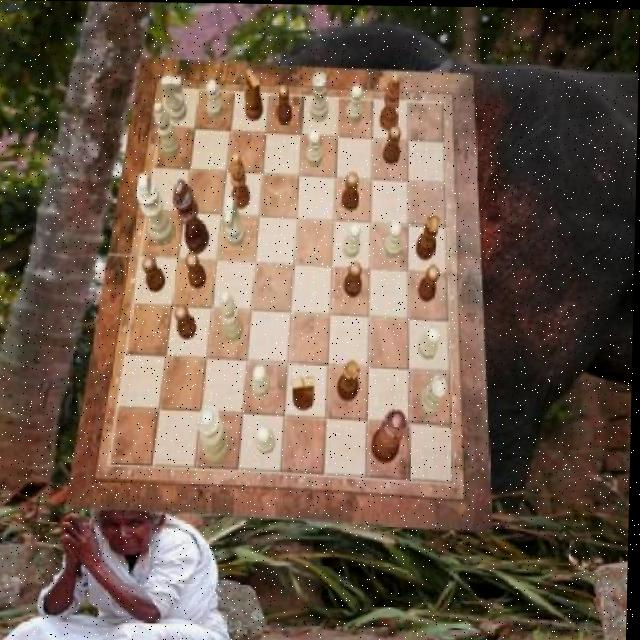bishop: (381, 70, 402, 131), (230, 152, 251, 210)
black-bishop: (173, 179, 212, 254)
black-king: (244, 68, 264, 120), (291, 374, 316, 409)
black-knight: (142, 256, 167, 292), (419, 264, 441, 301), (176, 304, 199, 339), (187, 252, 209, 288), (383, 124, 402, 165), (276, 83, 293, 125), (342, 170, 360, 208), (346, 261, 364, 296)
black-pawn: (373, 408, 410, 463)
black-queen: (417, 213, 442, 259), (338, 359, 361, 401)
black-rook: (155, 101, 183, 158), (222, 290, 246, 341)
white-bishop: (136, 174, 177, 247)
white-king: (162, 74, 189, 120), (225, 197, 247, 246)
white-knight: (420, 326, 443, 359), (205, 79, 223, 120), (345, 84, 363, 122), (386, 220, 404, 257), (253, 364, 273, 397), (343, 221, 361, 257), (307, 128, 323, 166), (258, 426, 279, 454)
white-pawn: (198, 404, 233, 462)
white-queen: (420, 376, 448, 416), (310, 71, 330, 122)
